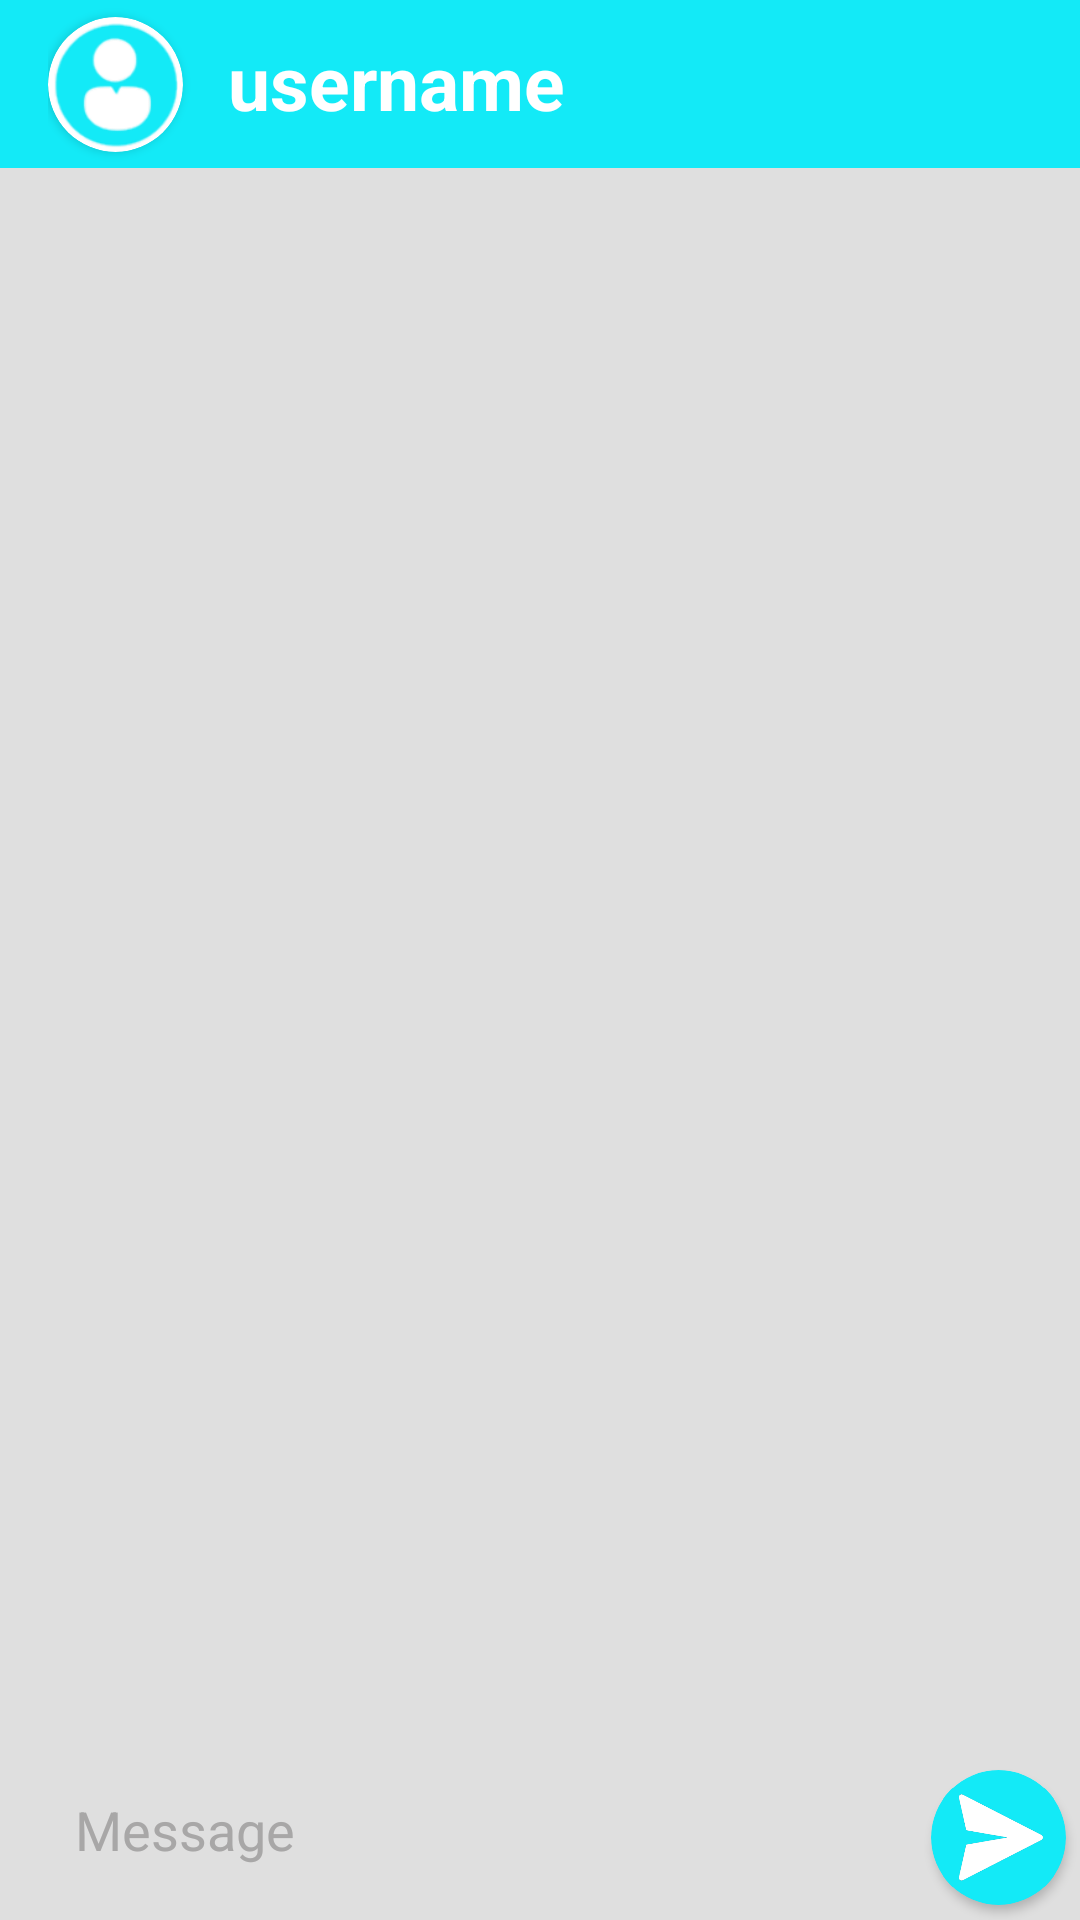

Named icons in this screenshot (1080×1920) and their bounding boxes, [x1=x1, y1=y1, x2=x2, y2=y2]:
userprofile: [x1=48, y1=17, x2=183, y2=152]
